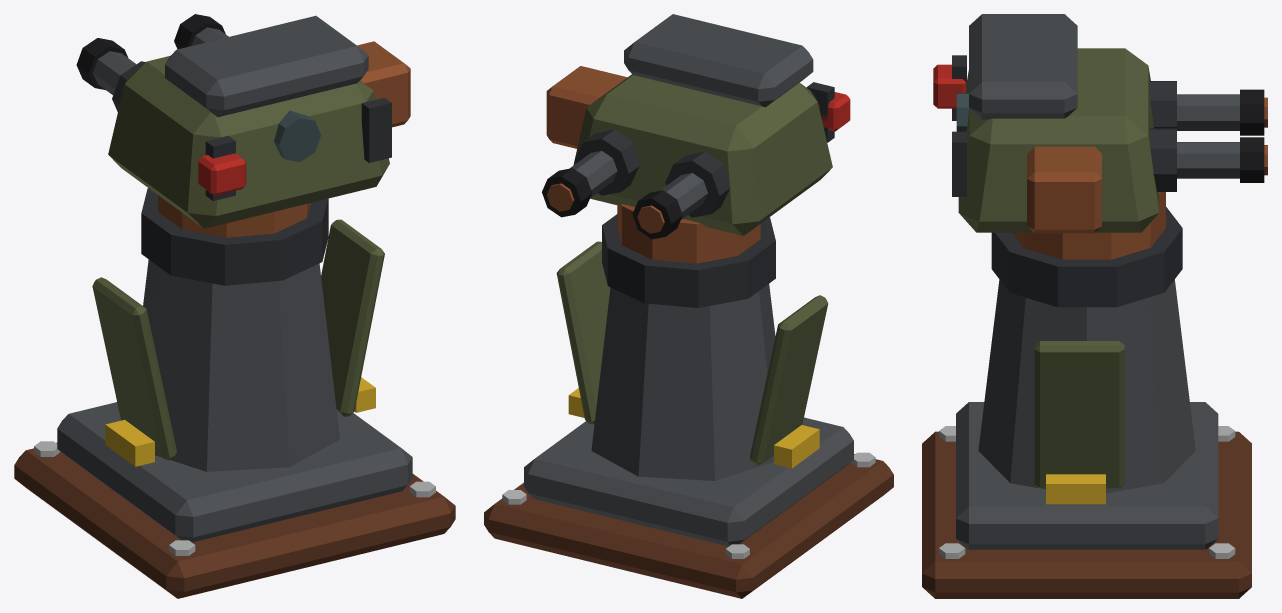
The model's file is piece_turret_mg.fbx.
The picture shows the model from 3 angles, left to right: view 1: azimuth 30°, elevation 25°; view 2: azimuth 150°, elevation 25°; view 3: azimuth 270°, elevation 25°; orthographic projection. The views are drawn at different scales.
Visible parts, largest first — view 1: piece_turret_mg, Head; view 2: piece_turret_mg, Head; view 3: piece_turret_mg, Head.
Part boxes in pixels (<box>): piece_turret_mg: <box>14,188,455,598</box>; Head: <box>76,14,410,228</box>; piece_turret_mg: <box>484,204,893,598</box>; Head: <box>542,14,850,239</box>; piece_turret_mg: <box>922,192,1251,598</box>; Head: <box>933,14,1267,233</box>.
Size of the model in its own units: 0.905 by 1.43 by 0.922.
